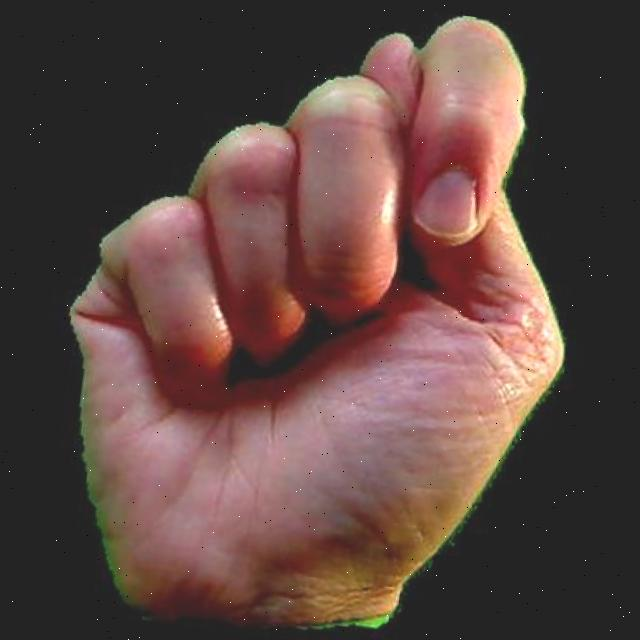t: (11, 0, 624, 640)
